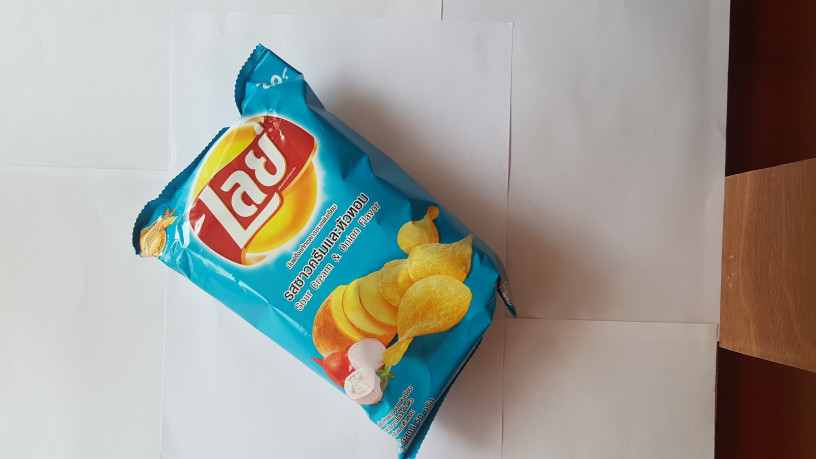lays-onion: (123, 52, 515, 459)
